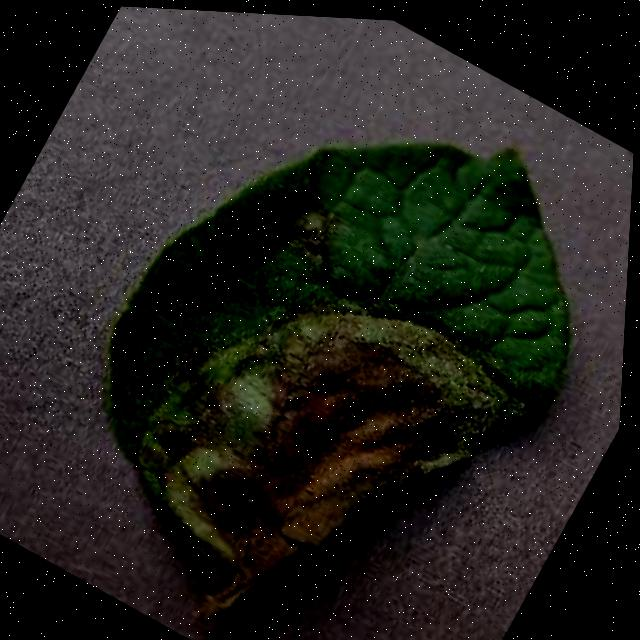Late_blight: (103, 229, 524, 640), (258, 173, 352, 274)
